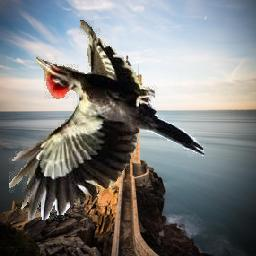Woodpecker: (10, 20, 207, 220)
